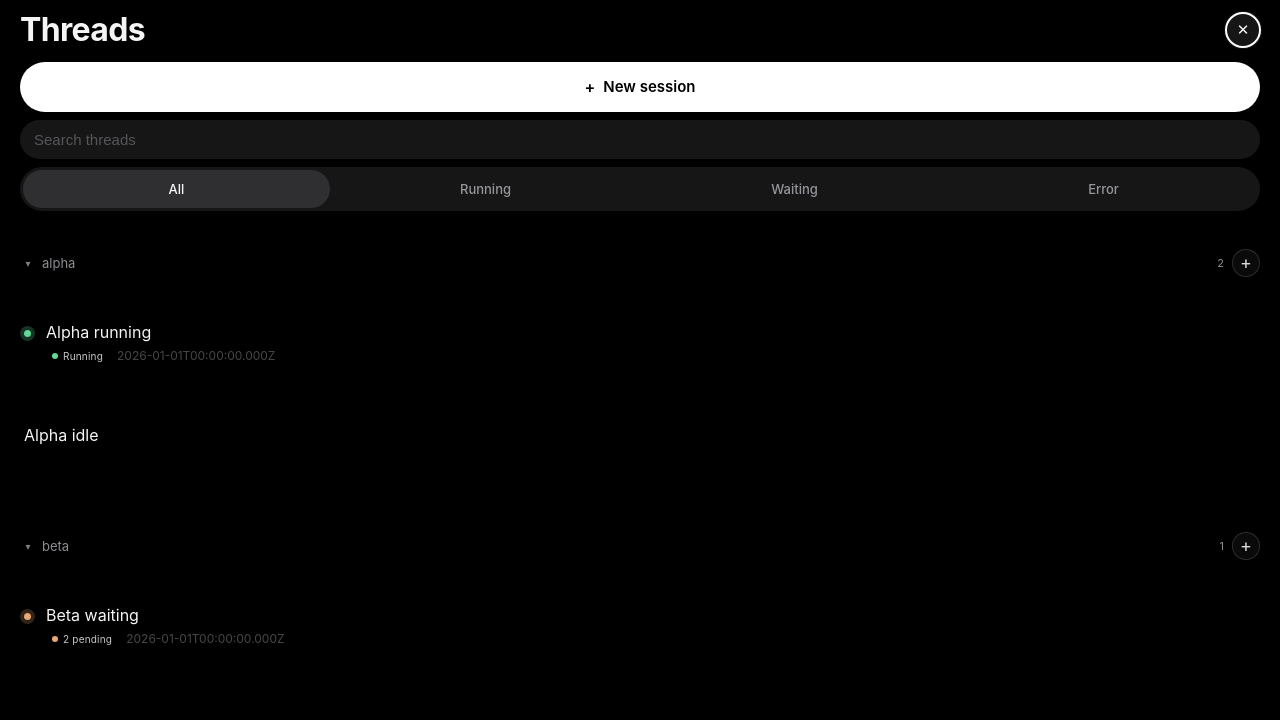
MobileThreadSwitcherOverlay slice 2: drawer + controls › Running filter hides idle threads and surfaces the running ones
Click the tab with test id "mobile-thread-switcher-filter-running" at x=486, y=189, box [332,170,639,208]
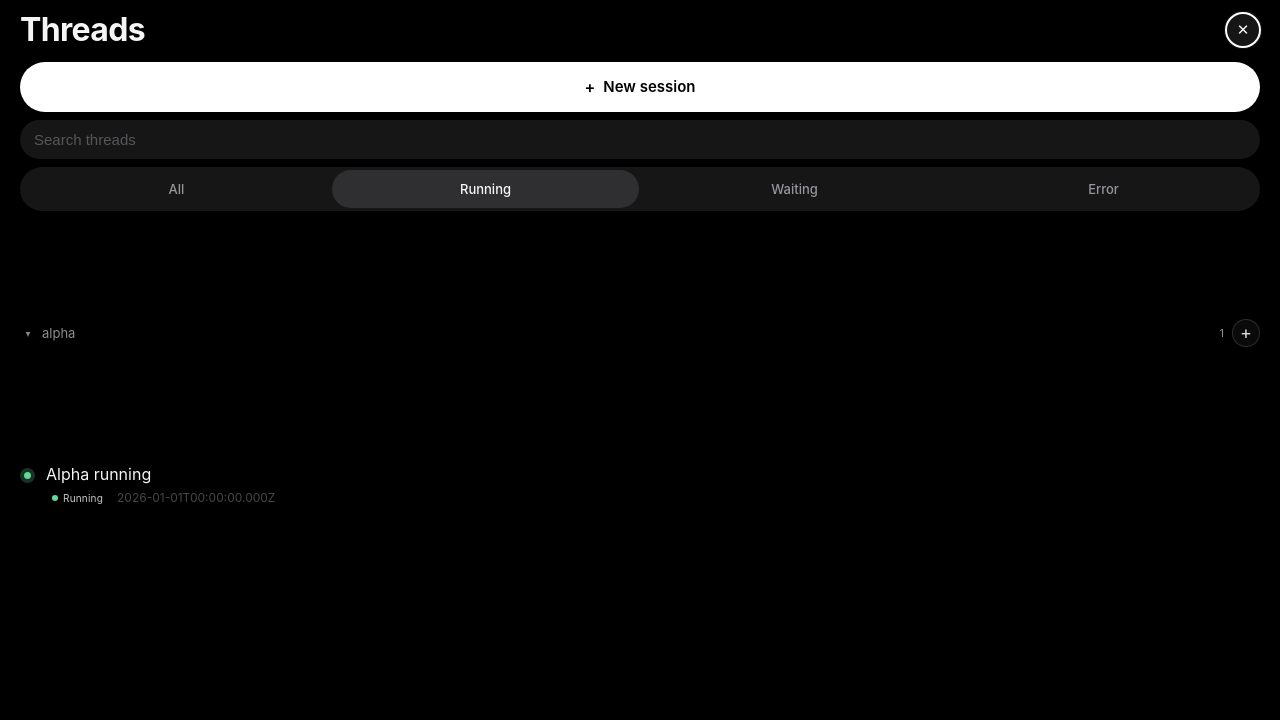
Expected: the text "Alpha running" is shown, [46,464,151,484]
Now the button "Alpha idle" is gone
Now the button "Beta waiting" is gone
